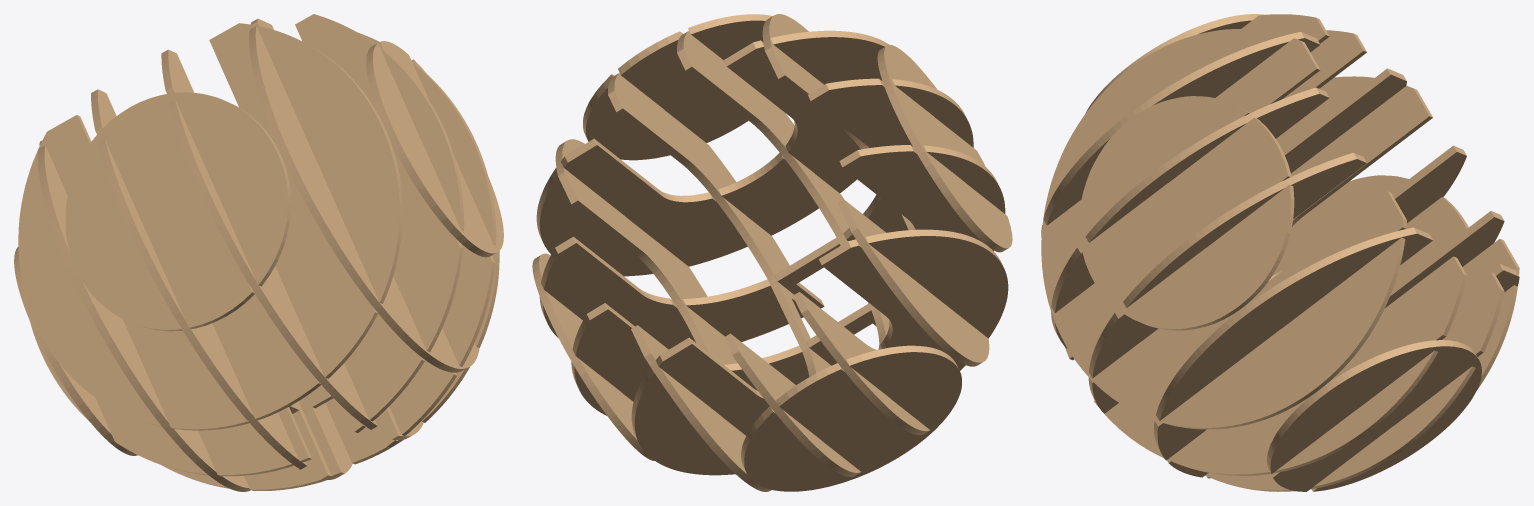
Rendered from samla.glb.
The picture shows the model from 3 angles, left to right: view 1: azimuth 30°, elevation 25°; view 2: azimuth 150°, elevation 25°; view 3: azimuth 270°, elevation 25°; orthographic projection. The views are drawn at different scales.
Parts seen in each view (by area): view 1: slicer-n3s; view 2: slicer-n3s; view 3: slicer-n3s.
Boxes of the visible parts, <box> form: slicer-n3s: <box>14,14,503,491</box>; slicer-n3s: <box>532,14,1012,491</box>; slicer-n3s: <box>1041,14,1519,491</box>.
Bounding box in the file's own units: 0.177 × 0.1815 × 0.1807.
